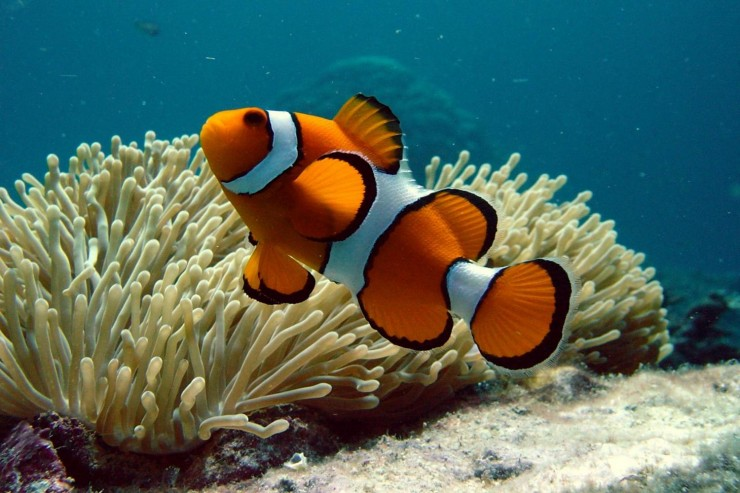fish: (181, 84, 589, 382)
